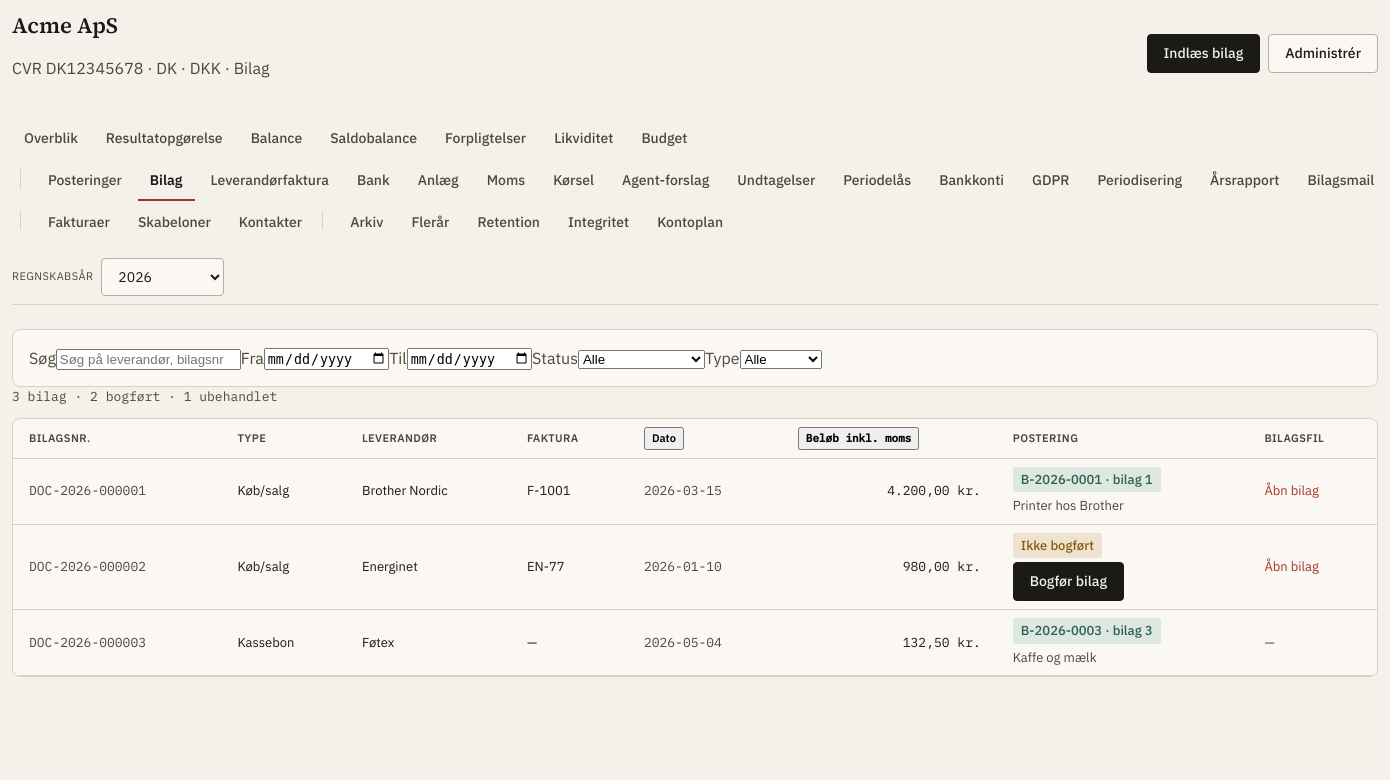
Test: DocumentsView — Bilag › filters by status — ikke bogført (#433)
This screenshot has width=1390, height=780.
Expected: the text "Brother Nordic" is shown, [346,458,511,524]
Select "Kun ubehandlede" in the dropdown labelled "Status" at (642, 359), box [578,350,705,368]
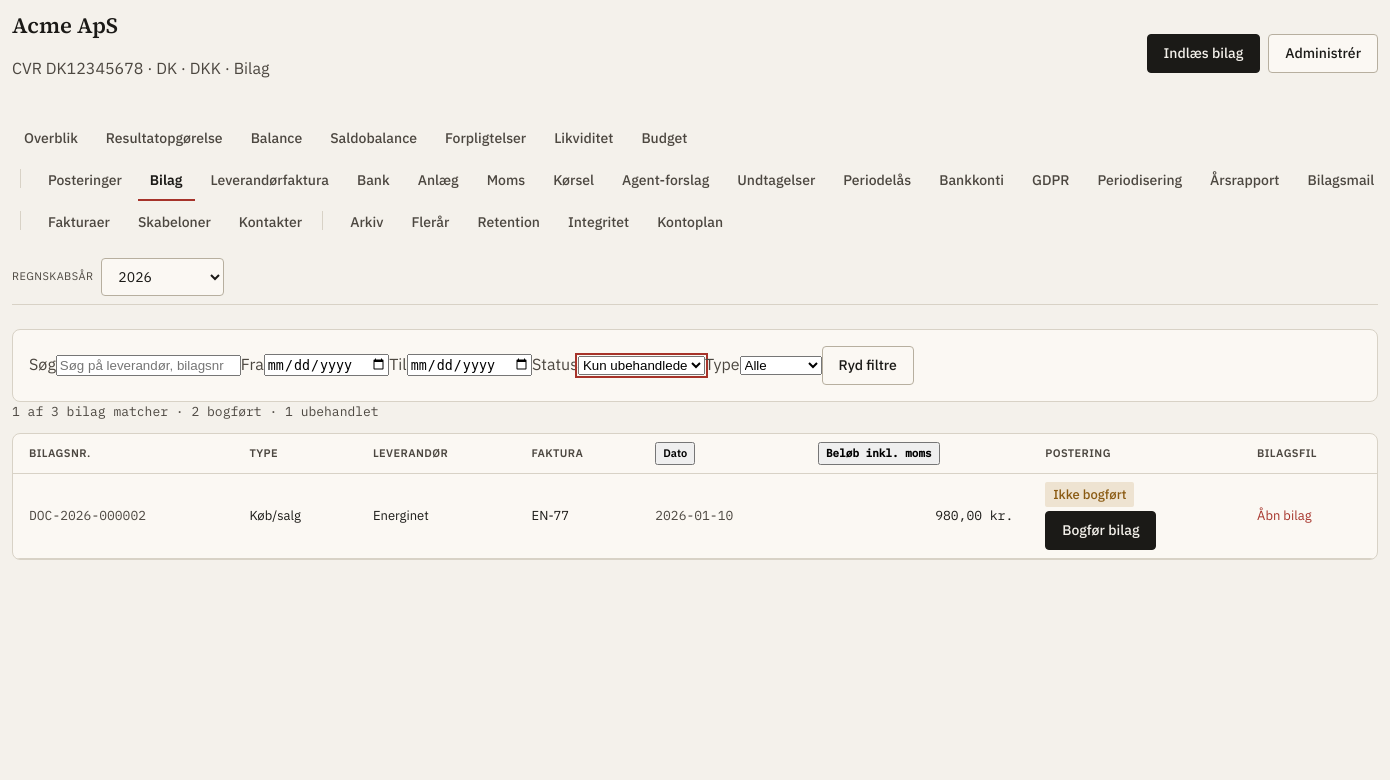
Expected: the text "Energinet" is shown, [357,473,516,558]
Result: the text "Brother Nordic" is gone
Result: the text "Føtex" is gone
